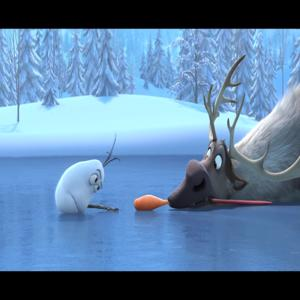carrot: (133, 189, 165, 220)
olaf: (53, 132, 112, 232)
sven: (178, 73, 272, 219)
